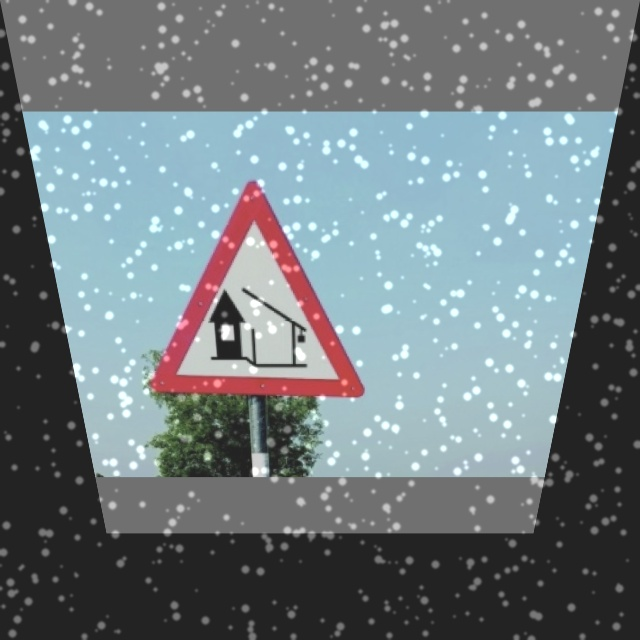Barrier_Ahead: (128, 177, 373, 400)
